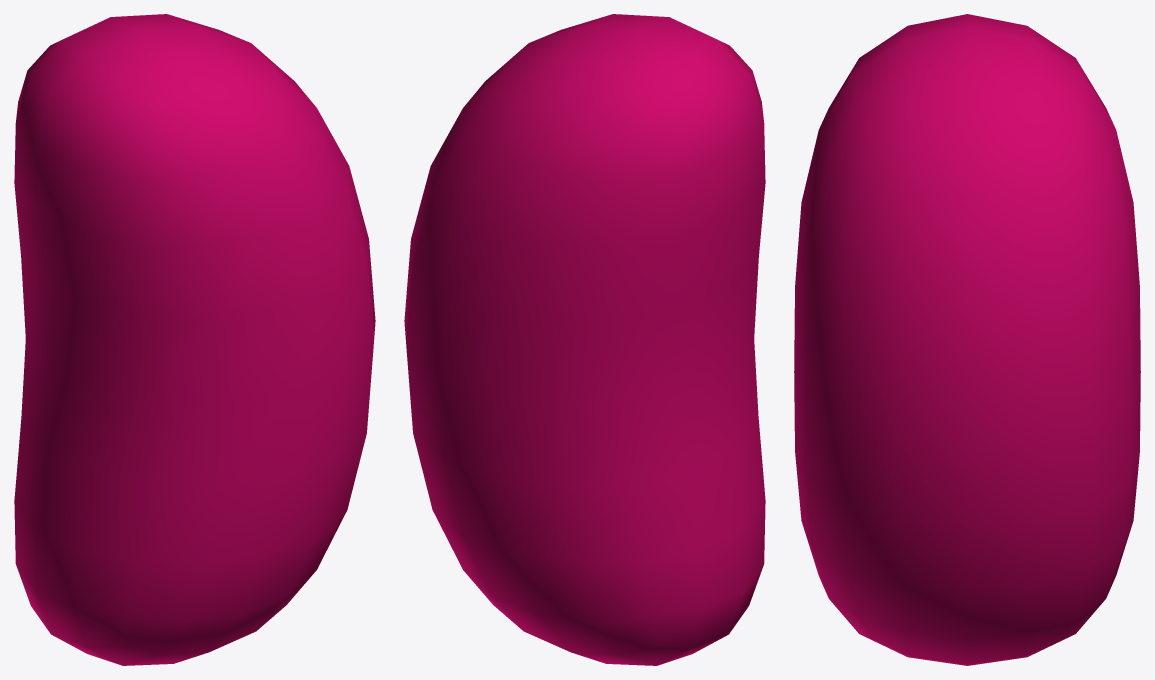
3 views of the same model, side by side, from view 1: azimuth 30°, elevation 25°; view 2: azimuth 150°, elevation 25°; view 3: azimuth 270°, elevation 25° (orthographic).
Visible parts, largest first — view 1: Cube.1409; view 2: Cube.1409; view 3: Cube.1409.
Boxes of the visible parts, x1=… form: Cube.1409: x1=14, y1=14, x2=375, y2=665; Cube.1409: x1=404, y1=14, x2=765, y2=665; Cube.1409: x1=794, y1=14, x2=1140, y2=665.
Size of the model in its own units: 0.2731 by 0.5138 by 0.2612.
